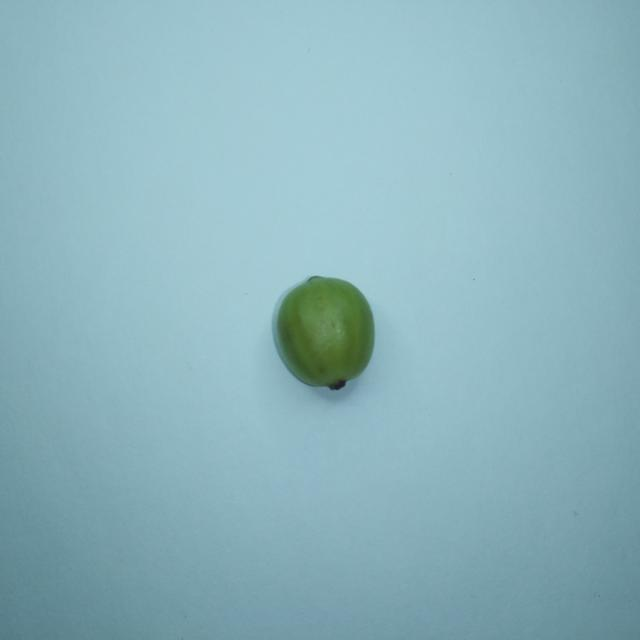Sano: (273, 276, 374, 389)
